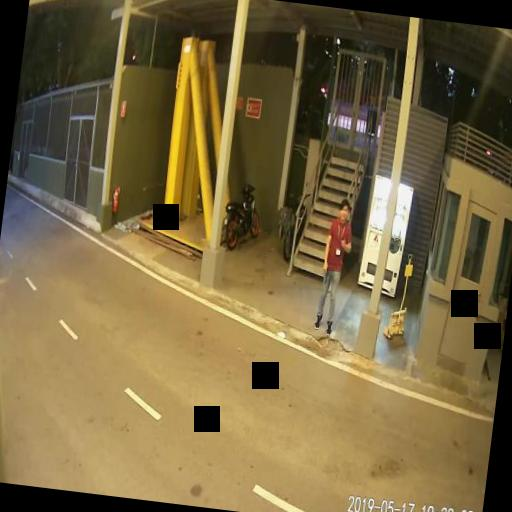Handgun: (320, 262, 328, 283)
